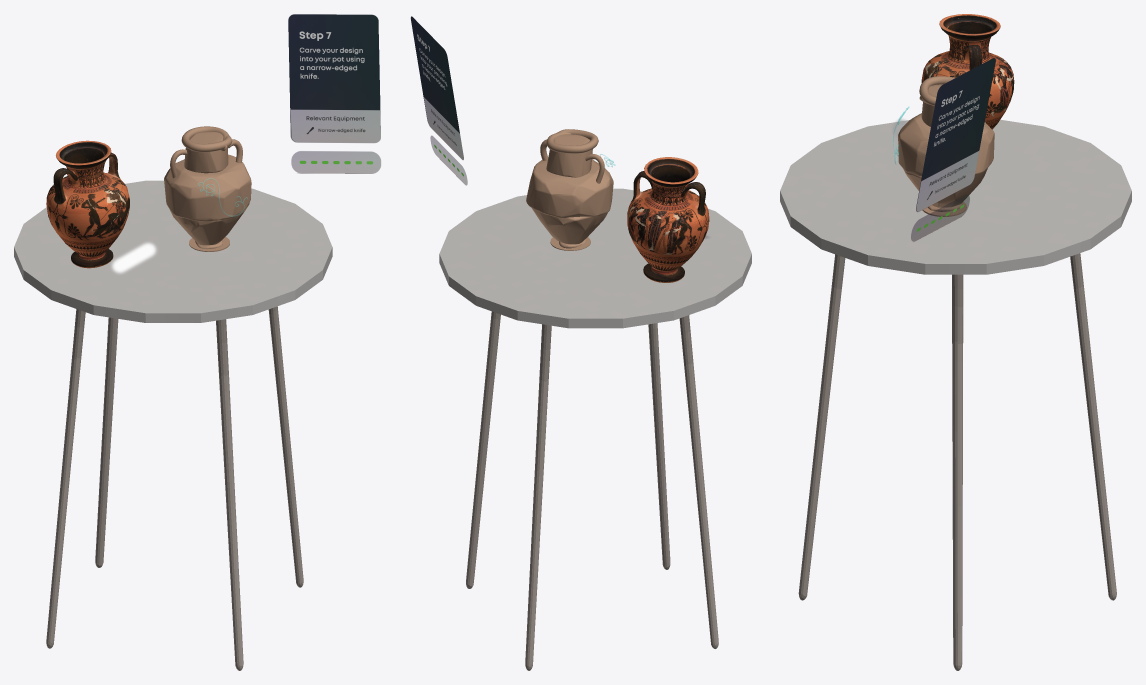
Rendered from AmphoraLineBlue_2025-01-04_18.11.23.gltf.
The picture shows the model from 3 angles, left to right: view 1: azimuth 30°, elevation 25°; view 2: azimuth 150°, elevation 25°; view 3: azimuth 270°, elevation 25°; orthographic projection. The views are drawn at different scales.
Parts seen in each view (by area): view 1: Table, ImageQuad (×2), OPM0003_OPM0003_0, LODGroup (×4); view 2: Table, OPM0003_OPM0003_0, LODGroup (×4), ImageQuad; view 3: Table, ImageQuad, OPM0003_OPM0003_0, LODGroup (×2).
Part boxes in pixels (x1=…): Table: x1=14, y1=180, x2=332, y2=670; ImageQuad (×2): x1=111, y1=14, x2=380, y2=274; OPM0003_OPM0003_0: x1=46, y1=140, x2=129, y2=268; LODGroup (×4): x1=164, y1=126, x2=251, y2=245; Table: x1=439, y1=188, x2=751, y2=670; OPM0003_OPM0003_0: x1=627, y1=157, x2=709, y2=282; LODGroup (×4): x1=526, y1=129, x2=613, y2=244; ImageQuad: x1=410, y1=16, x2=467, y2=185; Table: x1=780, y1=119, x2=1131, y2=670; ImageQuad: x1=911, y1=58, x2=995, y2=241; OPM0003_OPM0003_0: x1=921, y1=14, x2=1014, y2=129; LODGroup (×2): x1=898, y1=113, x2=994, y2=207.
Size of the model in its own units: 0.6991 by 1.13 by 0.579.
8 materials, 5 textured.
